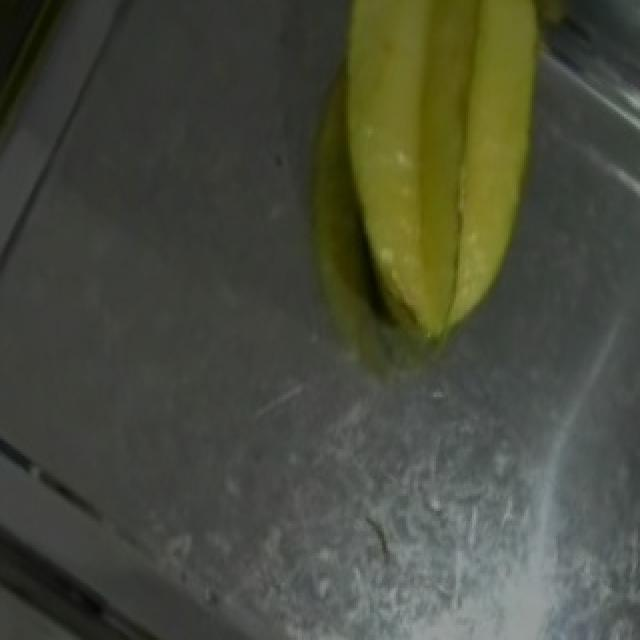fruit: (286, 0, 630, 335)
